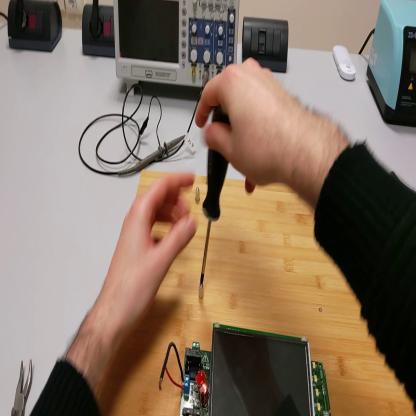hand: (105, 169, 197, 336), (196, 59, 302, 195)
low voltage board: (160, 324, 333, 416)
oscilloscope: (114, 2, 239, 95)
oscilloscope probe tip: (120, 133, 187, 175)
pliers: (11, 357, 35, 415)
screwdriver-: (200, 108, 229, 286)
socket: (7, 1, 63, 54), (80, 4, 115, 57)
welder station: (367, 2, 416, 128)
working area: (102, 164, 416, 415)
